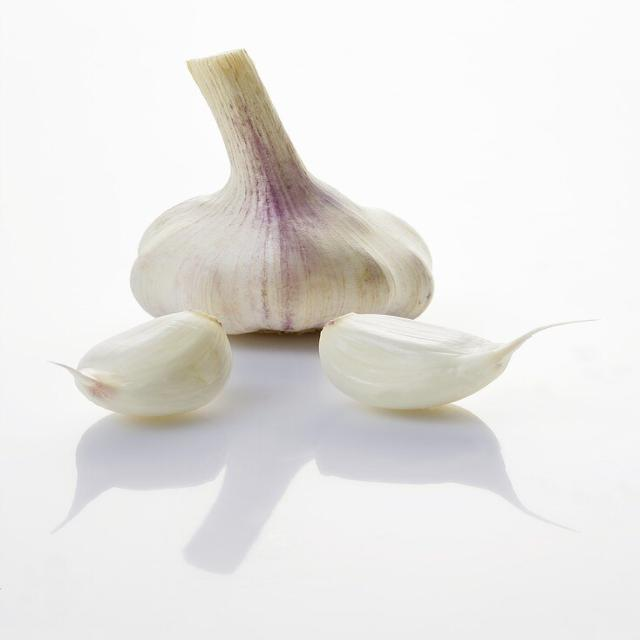garlic: (118, 170, 469, 348)
